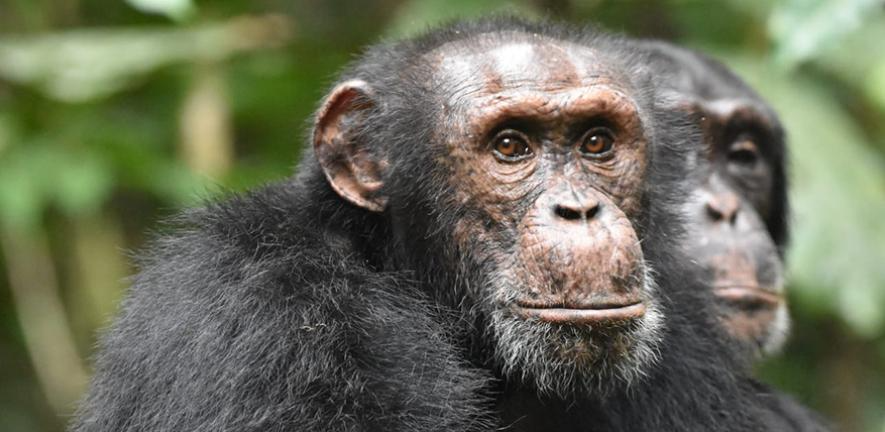Champanze: (71, 21, 678, 432)
